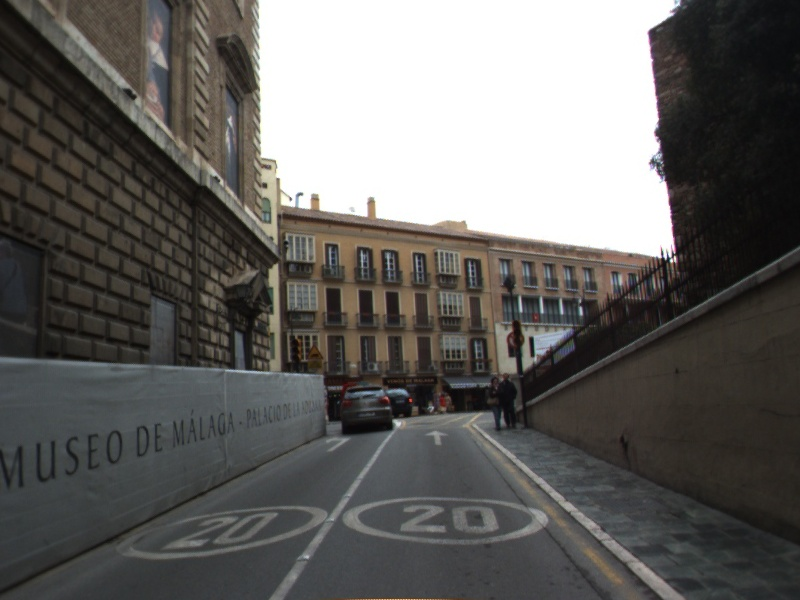LEFT: (324, 434, 353, 454)
STRAIGHT: (423, 428, 451, 447)
